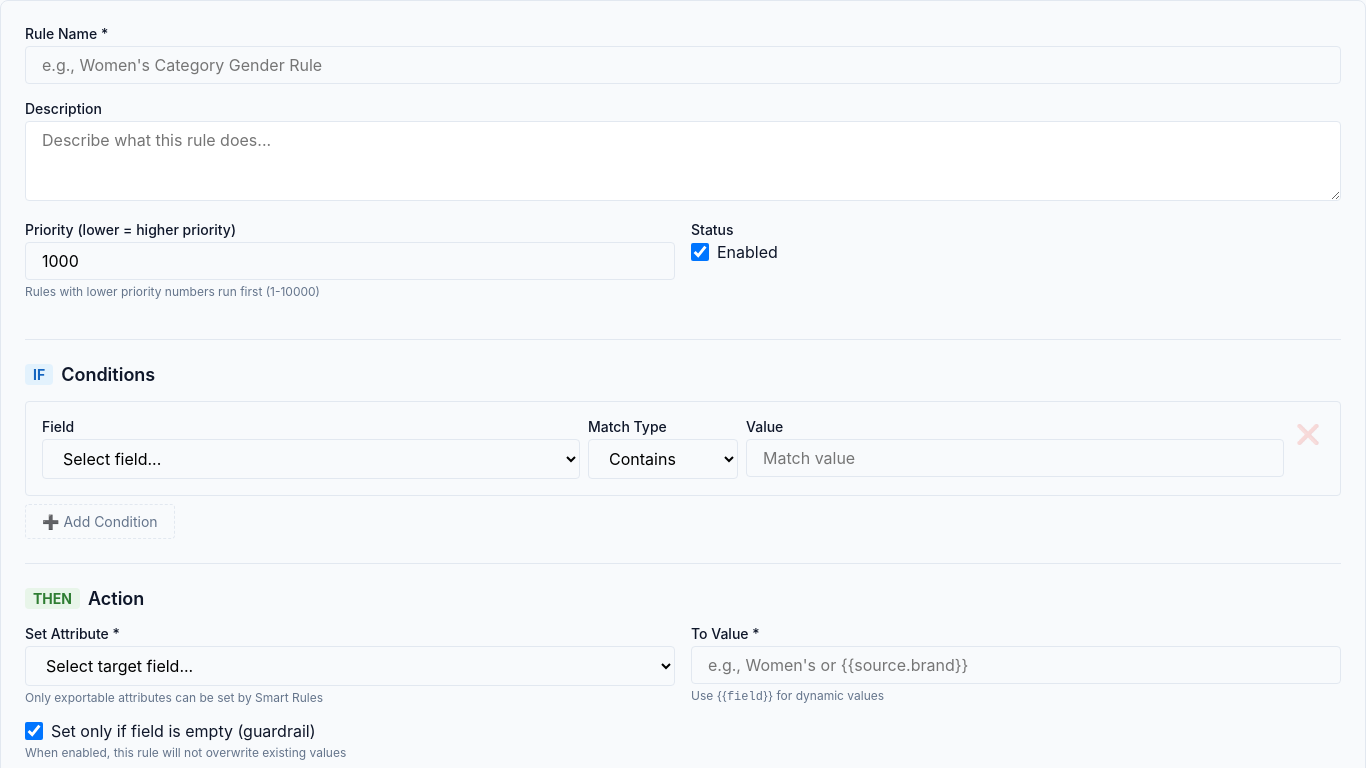
Test: RuleBuilder Component › Form Validation › should show error when target field is empty
The image size is (1366, 768).
Note: Fill in name by finding the input
Type "Test Rule" into the field with placeholder "e.g., Women's Category Gender Rule" at (683, 65), box top-left (25, 46), bottom-right (1341, 84)
(page scrolled)
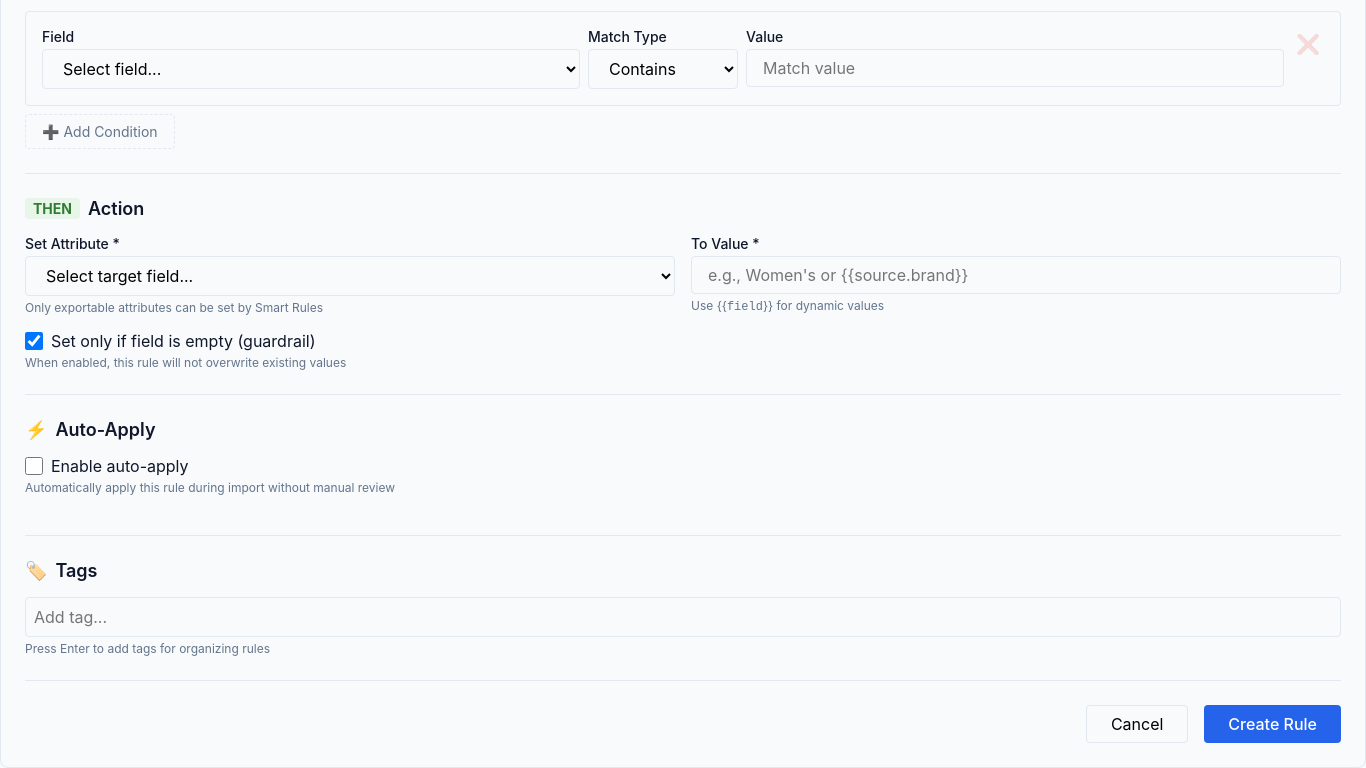
Click the button "Create Rule" at (1273, 724), box top-left (1204, 705), bottom-right (1341, 743)
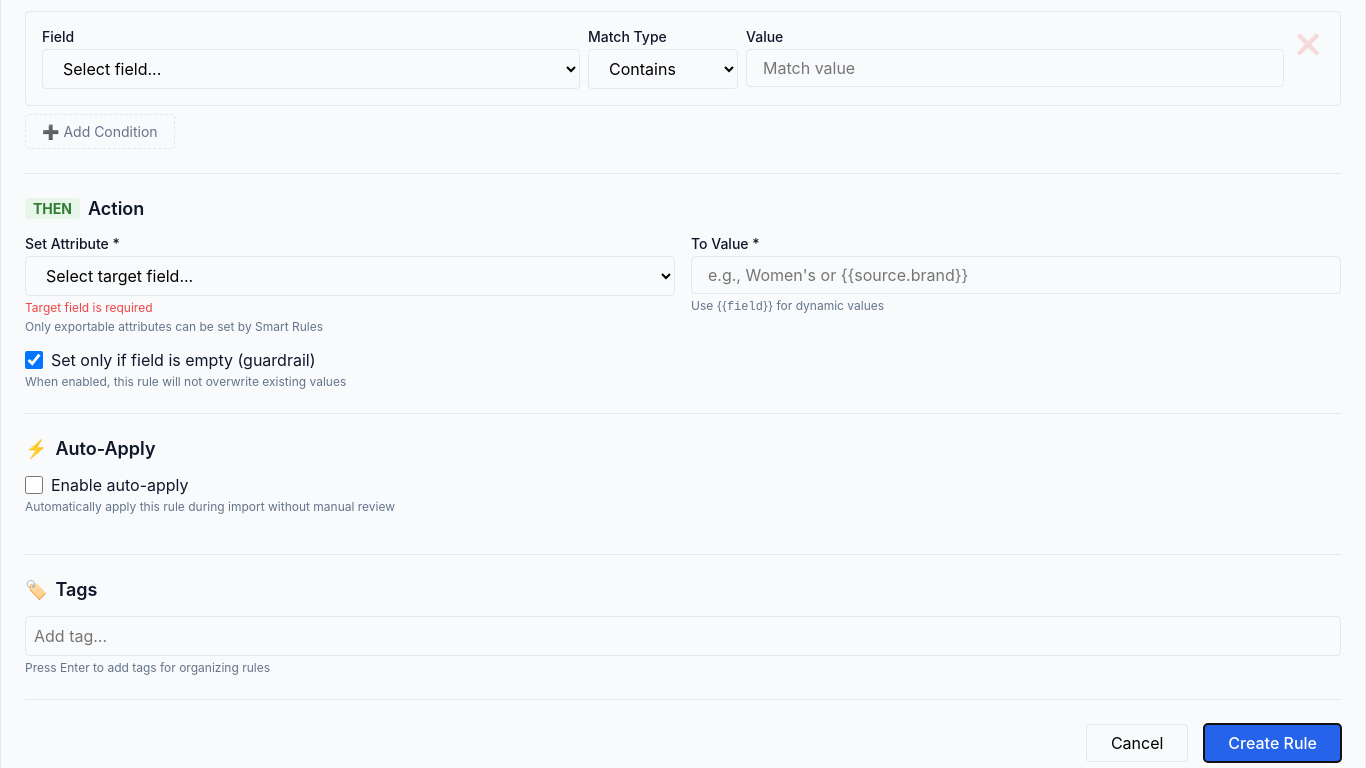
Check: the text "Target field is required" is shown, box top-left (25, 300), bottom-right (152, 315)
